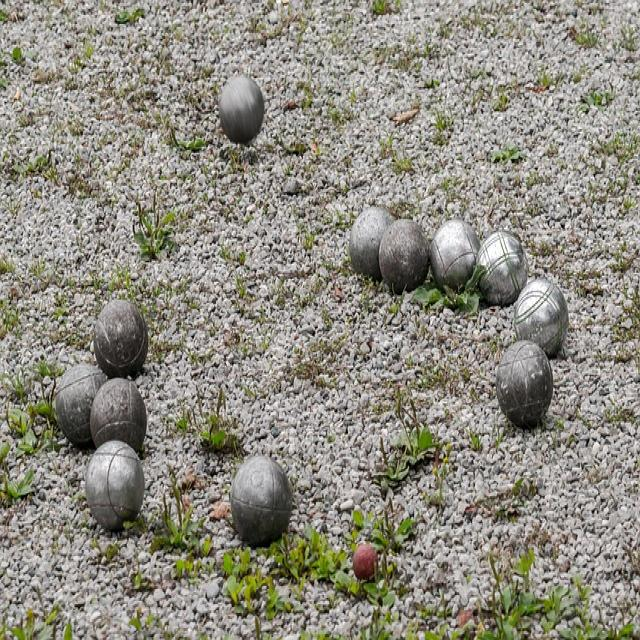hatball: (347, 539, 382, 586)
petanque: (78, 433, 152, 539), (507, 274, 577, 364), (492, 336, 556, 430), (87, 375, 154, 459), (51, 351, 105, 453), (88, 298, 151, 380), (471, 226, 530, 311), (373, 214, 433, 297), (426, 212, 484, 296), (344, 201, 399, 285), (217, 69, 269, 149)
